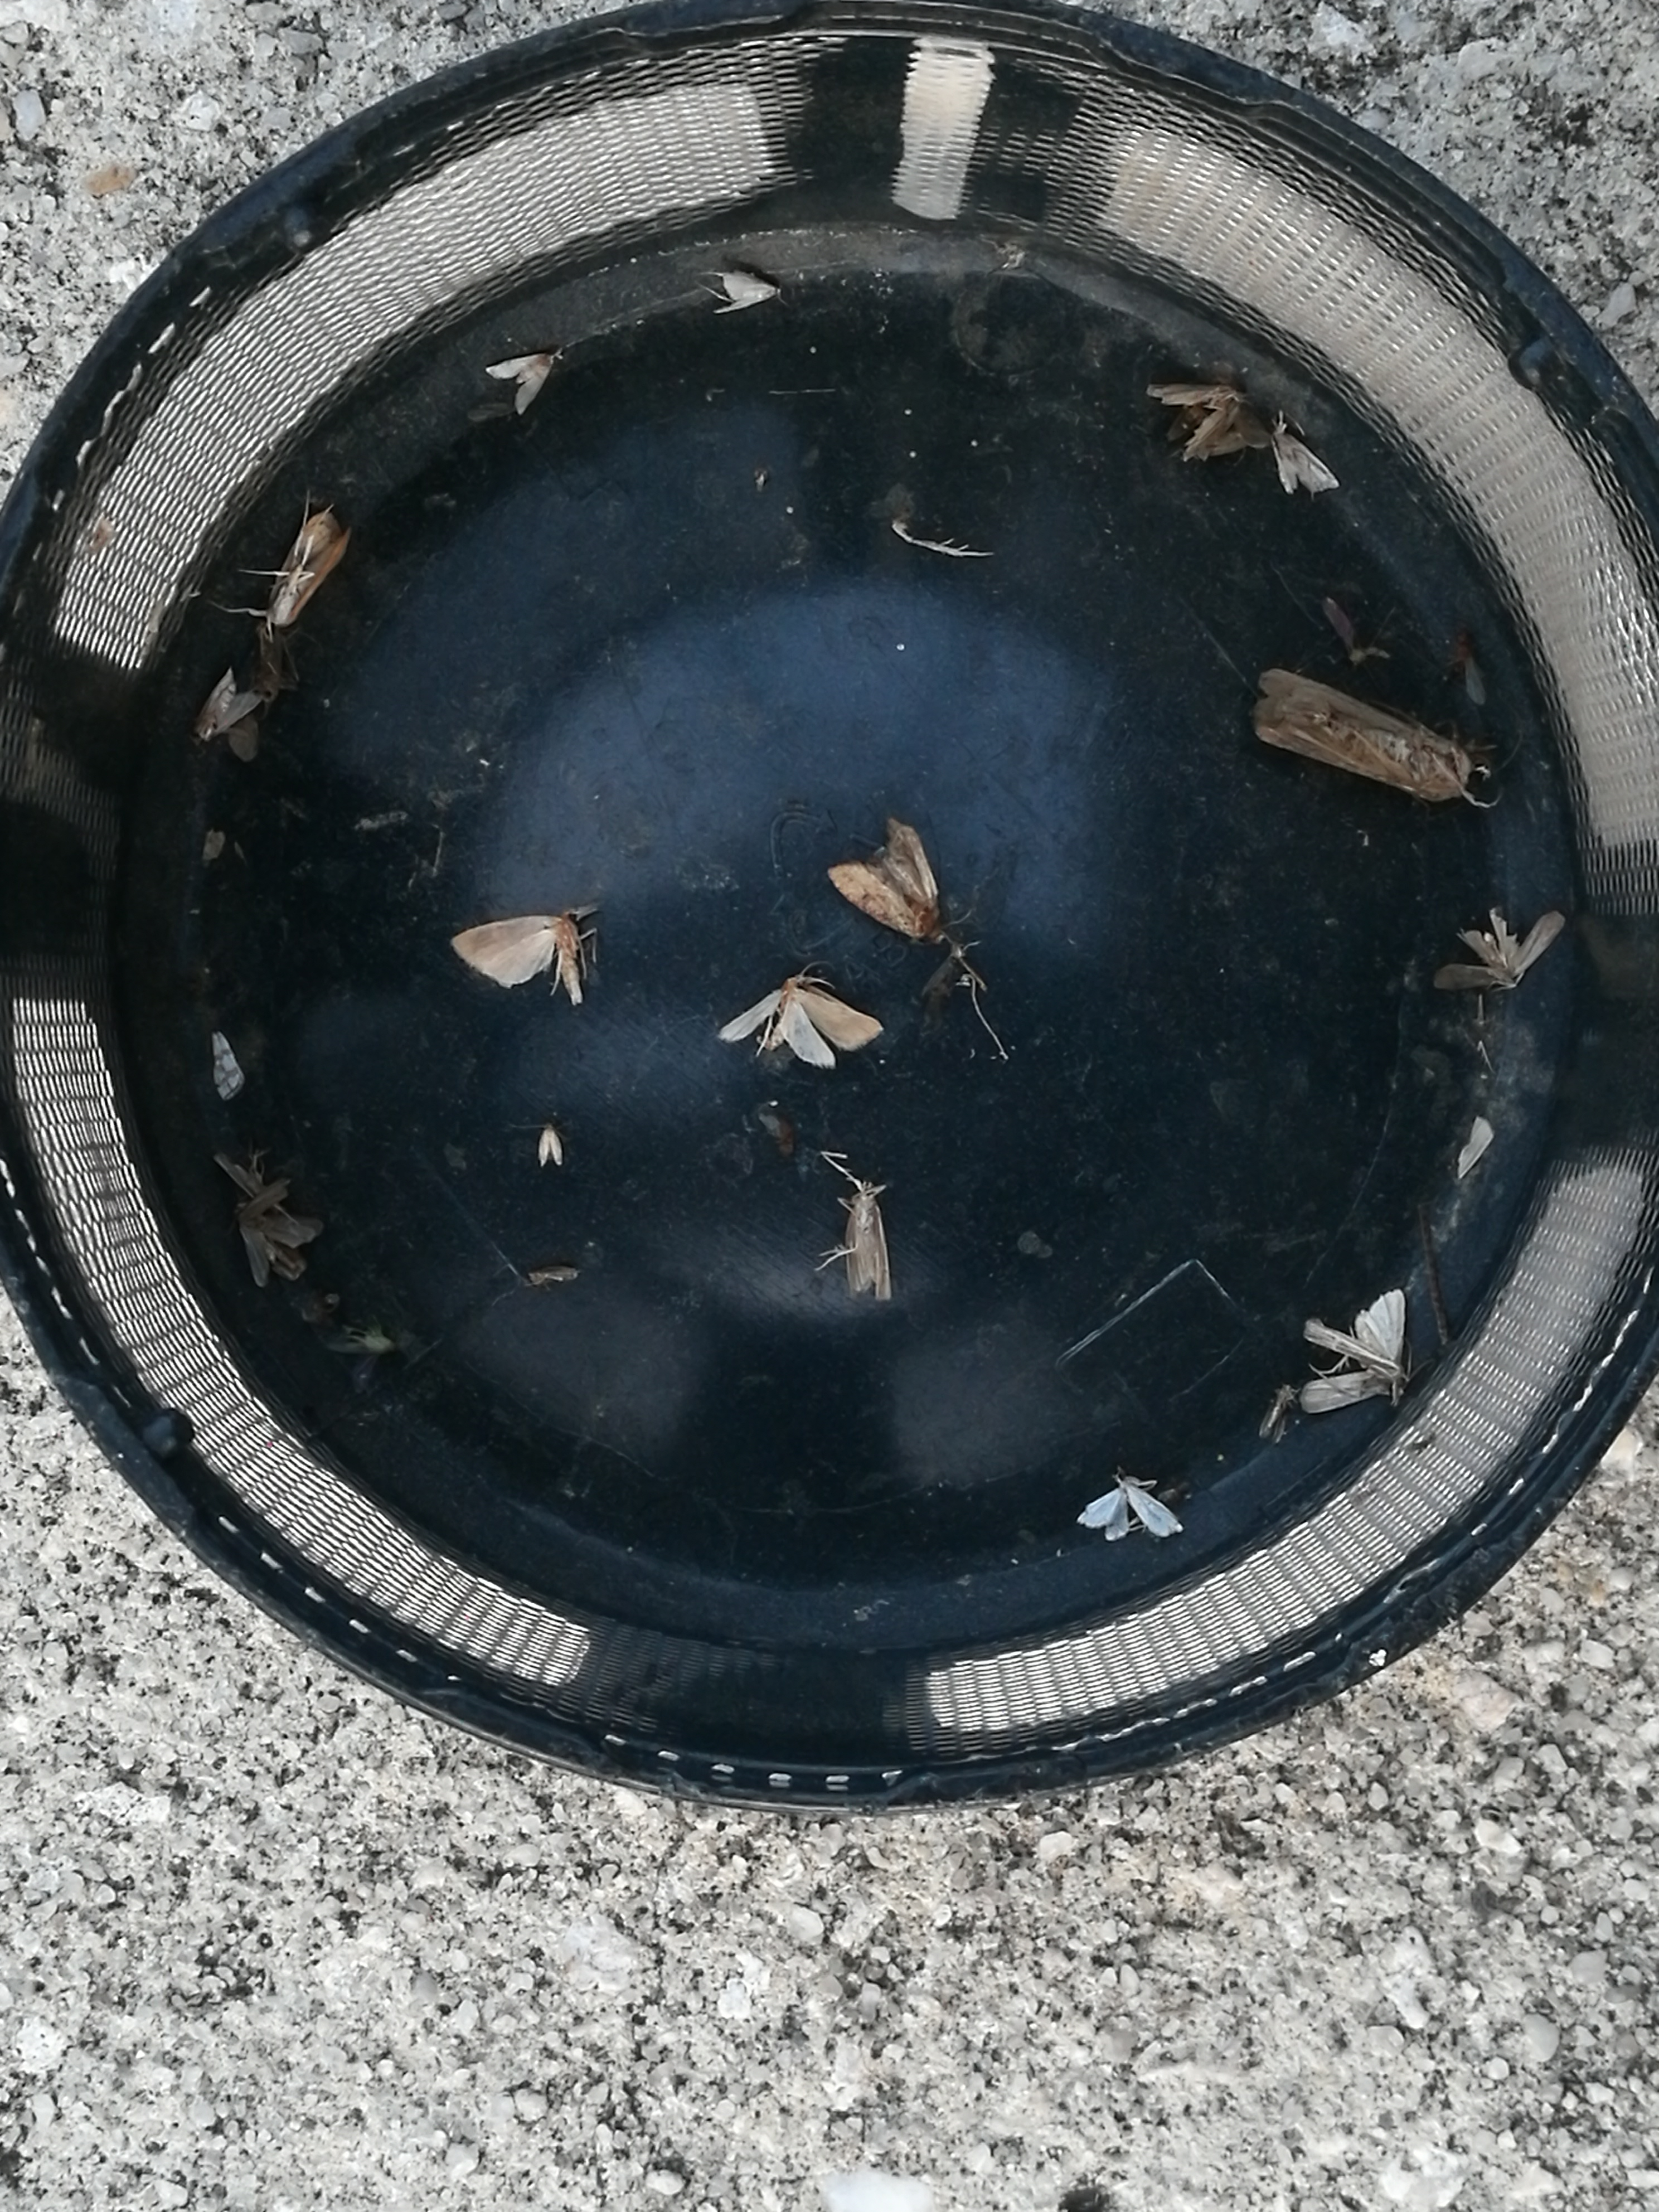mosquito: (267, 512, 336, 627), (850, 1197, 890, 1298)
moth: (1251, 669, 1469, 803), (1302, 1291, 1406, 1416), (714, 984, 880, 1061), (833, 820, 939, 939), (451, 907, 580, 1005), (1429, 913, 1561, 988), (235, 1177, 321, 1289), (1080, 1480, 1183, 1541), (1154, 388, 1239, 460), (193, 667, 261, 745), (484, 352, 556, 413), (1272, 423, 1330, 493), (711, 272, 775, 312)
